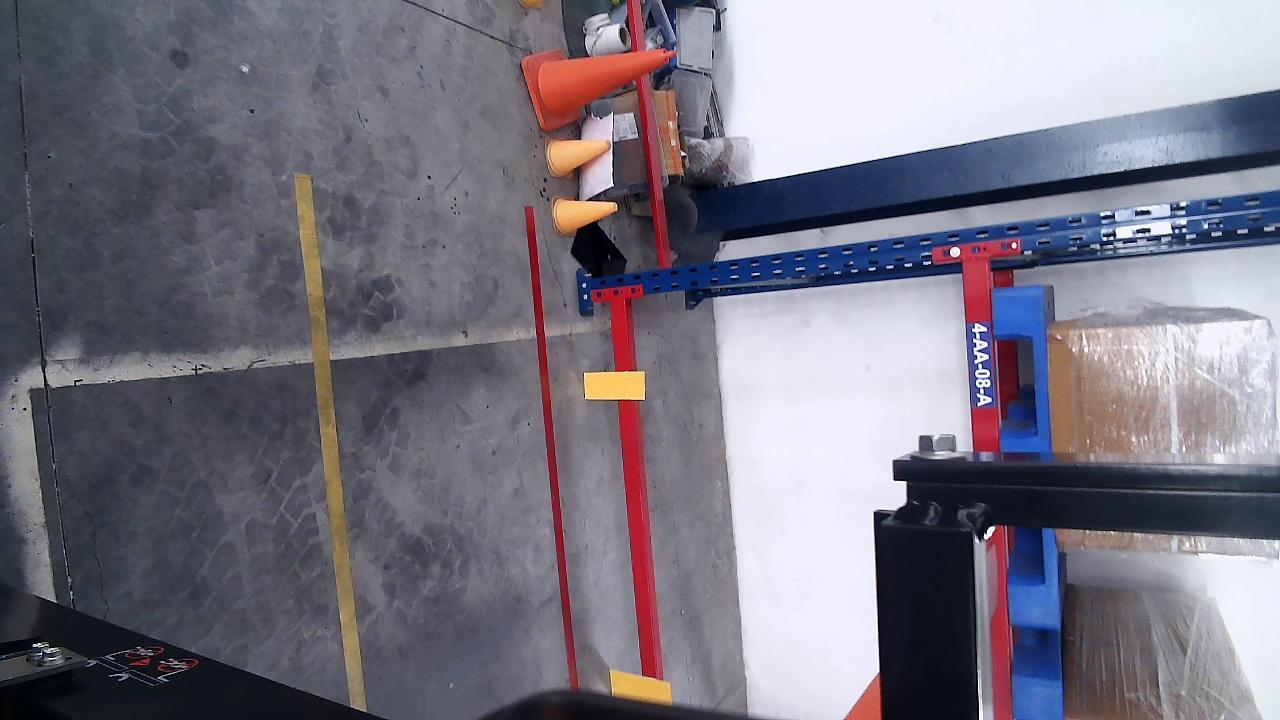h_rack: (610, 300, 667, 703), (962, 258, 1001, 448)
orange_strip: (611, 668, 673, 704), (582, 371, 645, 400)
red_line: (523, 206, 580, 689)
yellow_line: (291, 170, 368, 712)
